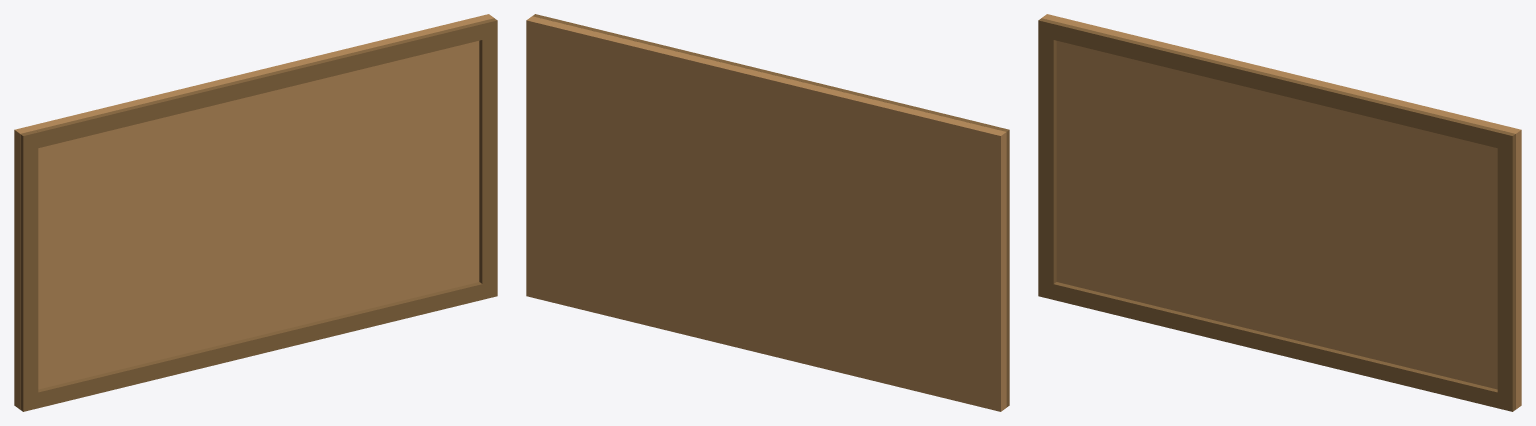
Rendered from corkboard.fbx.
3 renders of one model, left to right at view 1: azimuth 30°, elevation 25°; view 2: azimuth 150°, elevation 25°; view 3: azimuth 330°, elevation 25°, orthographic.
Visible parts, largest first — view 1: Cube; view 2: Cube; view 3: Cube.
Boxes of the visible parts, x1,y1,x2,y2 form: Cube: (14, 14, 497, 411); Cube: (526, 14, 1009, 411); Cube: (1038, 14, 1521, 411).
Size of the model in its own units: 900 by 500 by 28.76.
